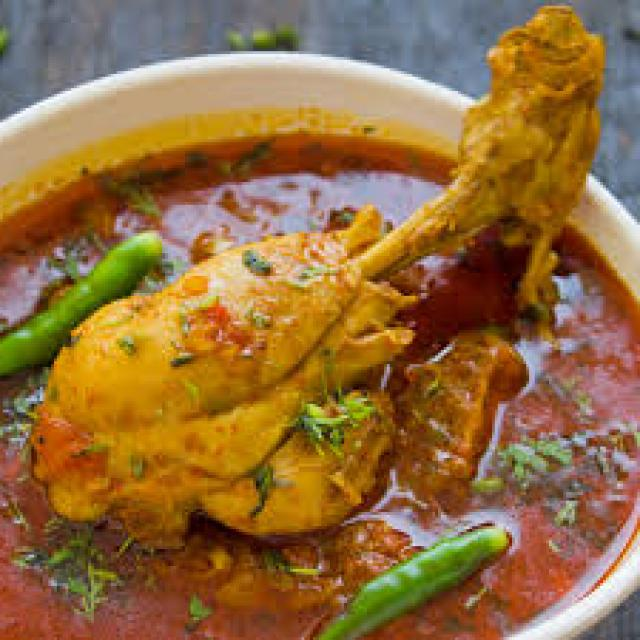Chicken Curry: (3, 6, 634, 637)
